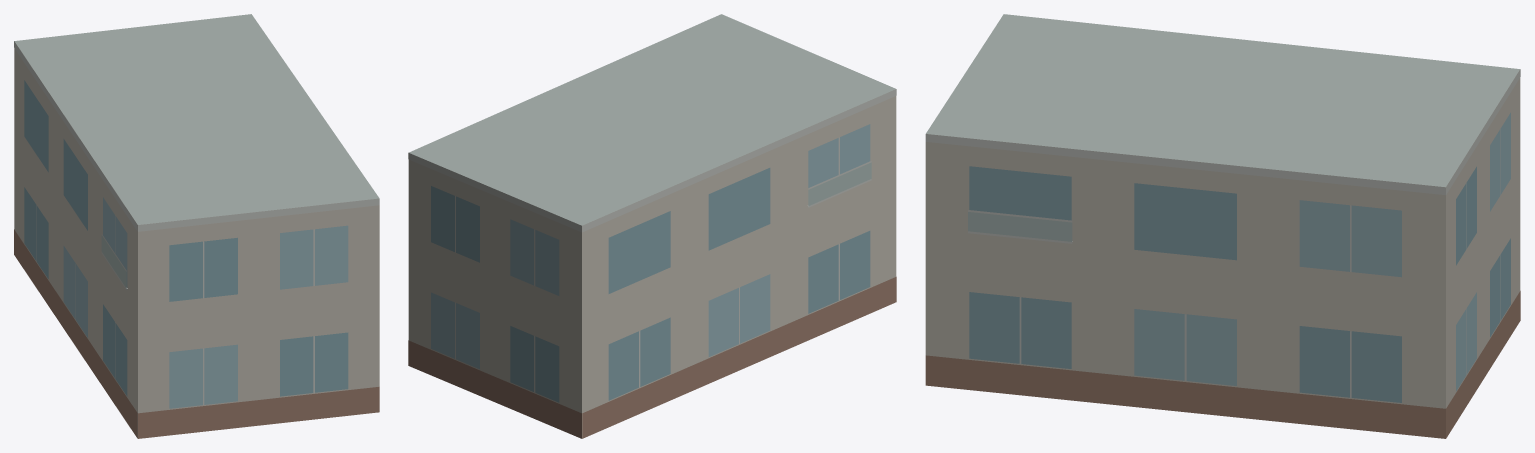
The model's file is survey-upis-32988925.glb.
The picture shows the model from 3 angles, left to right: view 1: azimuth 30°, elevation 25°; view 2: azimuth 150°, elevation 25°; view 3: azimuth 270°, elevation 25°; orthographic projection. The views are drawn at different scales.
Parts seen in each view (by area): view 1: survey-upis-32988925.tmp; view 2: survey-upis-32988925.tmp; view 3: survey-upis-32988925.tmp.
Part boxes in pixels (x1=…): survey-upis-32988925.tmp: x1=14, y1=14, x2=379, y2=438; survey-upis-32988925.tmp: x1=408, y1=14, x2=896, y2=438; survey-upis-32988925.tmp: x1=925, y1=14, x2=1520, y2=438.
Bounding box in the file's own units: 11.38 × 7.7 × 16.5.
